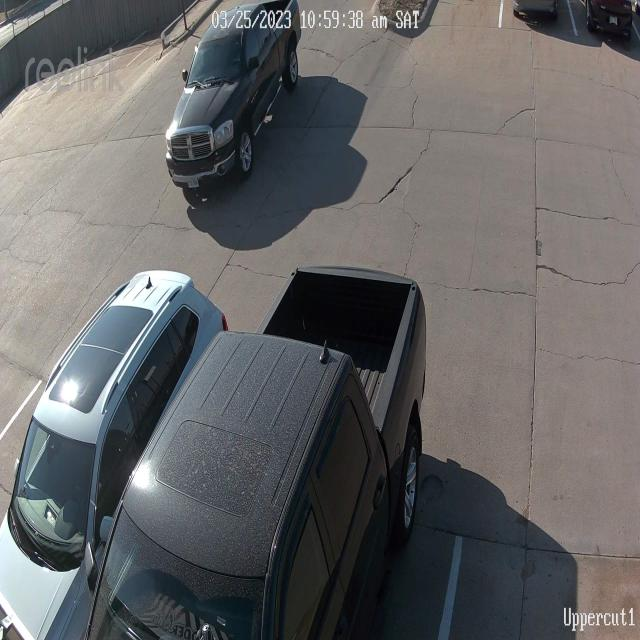Car: (165, 0, 303, 196)
Empty-slot: (441, 513, 640, 640), (2, 269, 76, 419), (405, 0, 504, 56)
Slot-Occupied: (110, 334, 414, 640), (19, 278, 212, 624), (584, 0, 638, 60), (515, 0, 569, 46)
